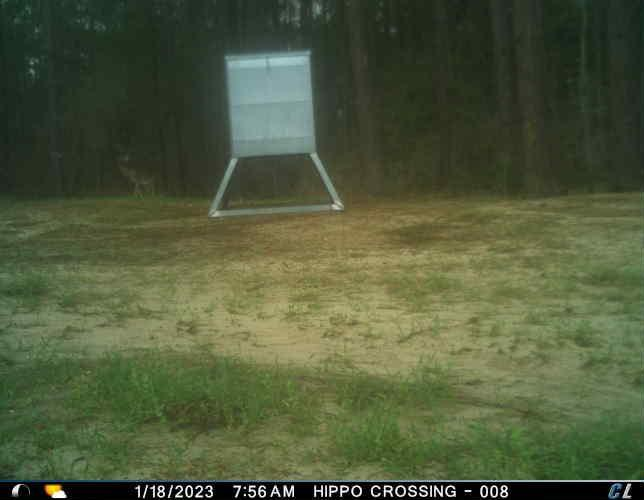Deer: (117, 156, 163, 200)
